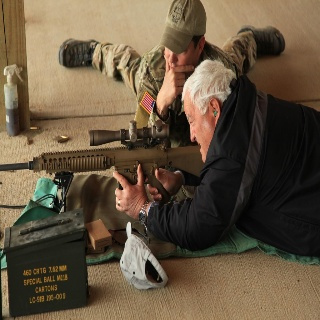rifle: (1, 120, 207, 205)
